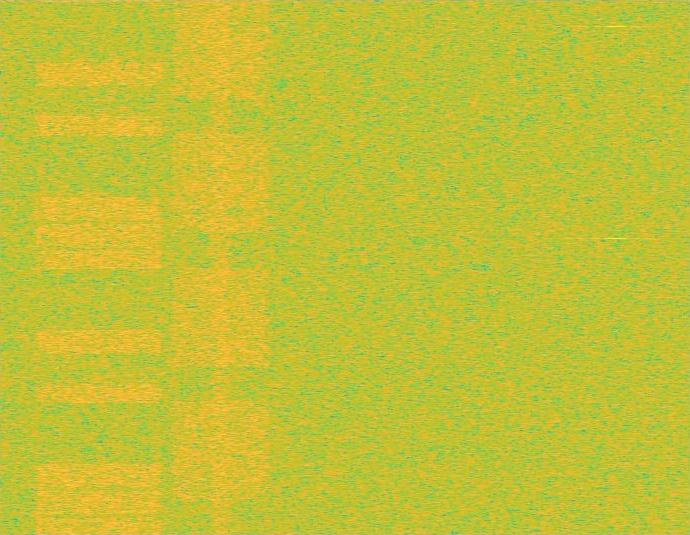5G: (169, 0, 273, 534)
DSSS: (210, 0, 233, 534)
LTE: (30, 0, 168, 534)
Radar: (609, 0, 623, 534)
